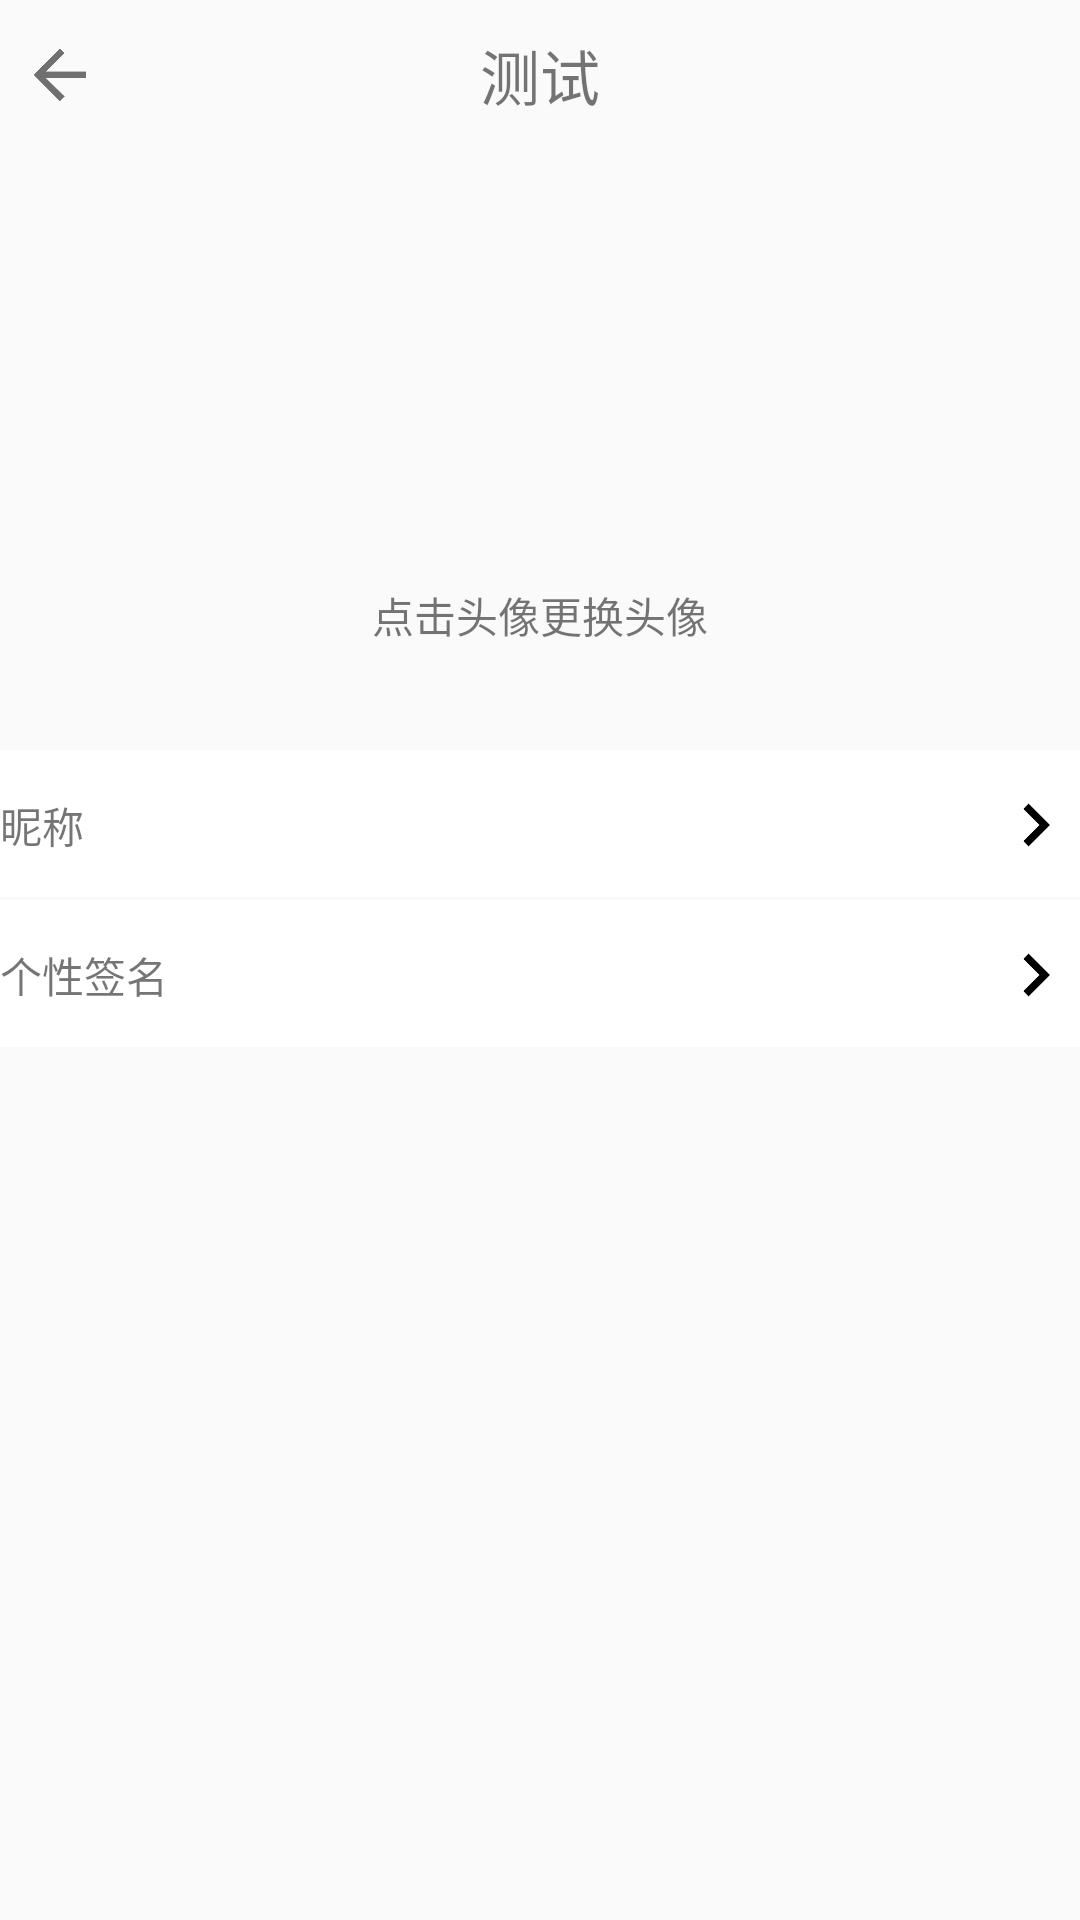

Icon click points for this 1080px×1920px phone screenshot, format [x,y]:
back: [60,75]
right arrow: [1036,825], [1036,975]
